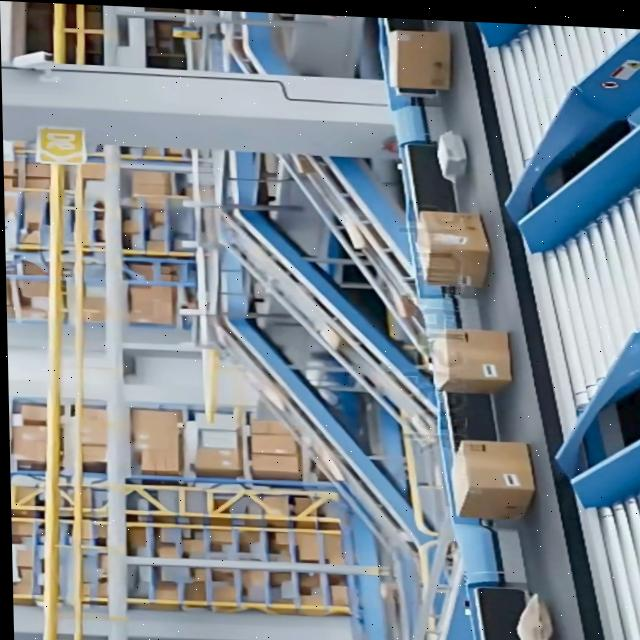product 1: (448, 438, 536, 507), (415, 209, 491, 287), (429, 326, 513, 394)
product 2: (434, 128, 469, 182)
